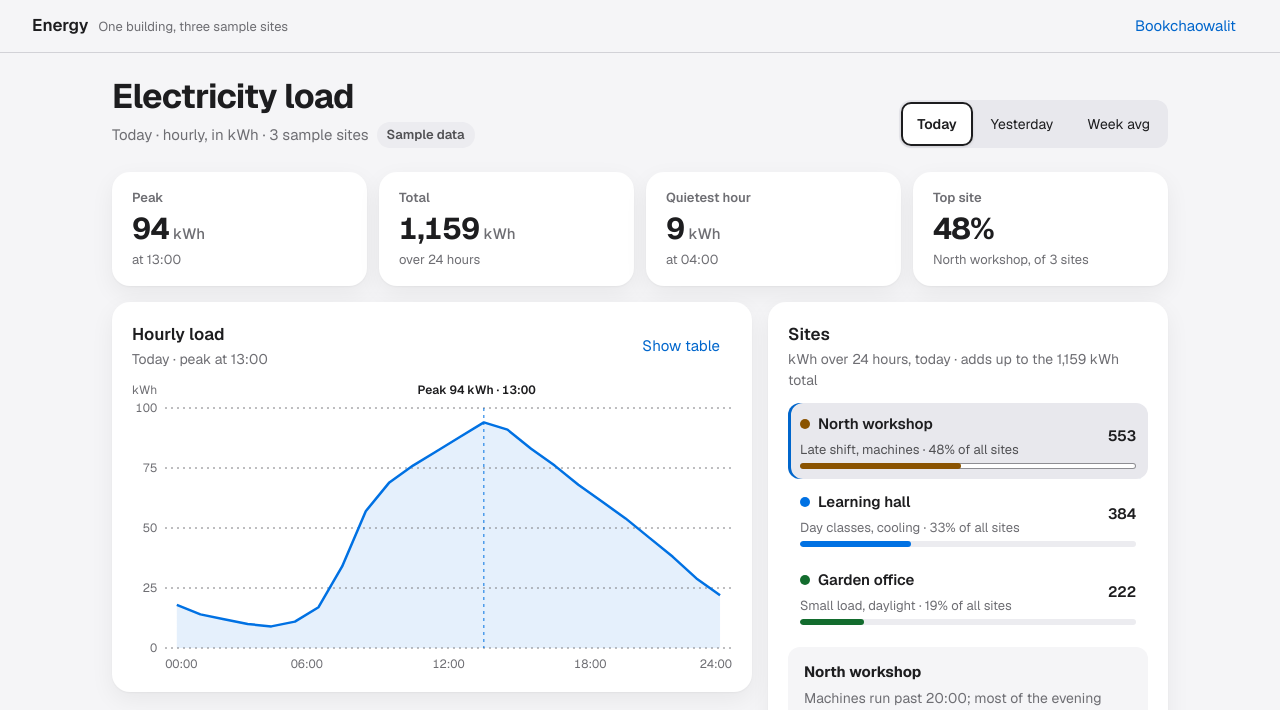
Test: energy dashboard › selects a site and shows its note
Expected: the button with class "ds-row" shows "48% of all sites", [788, 403, 1148, 479]
Click the button "Learning hall Day classes, cooling · 33% of all sites 384".
click(968, 519)  # box [788, 481, 1148, 557]
(page scrolled)
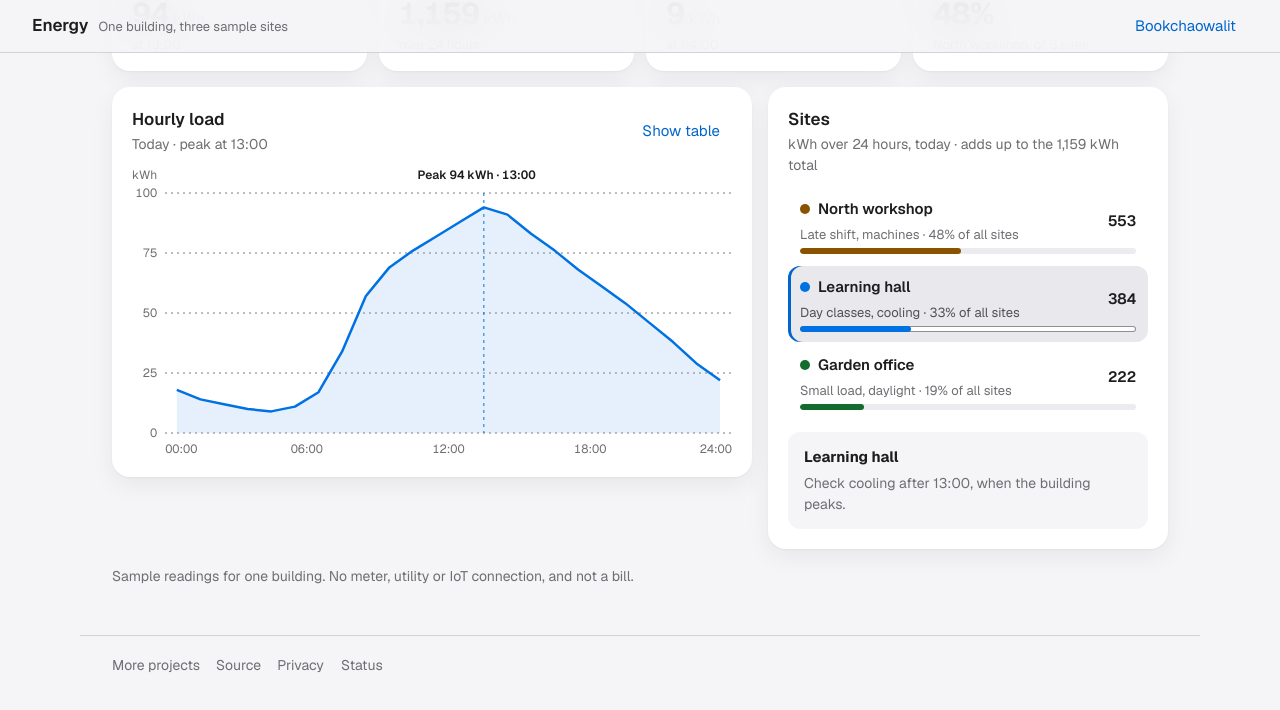
Now the element with class "ds-callout" reads "Learning hall Check cooling after 13:00, when the building peaks.", box [788, 432, 1148, 529]
